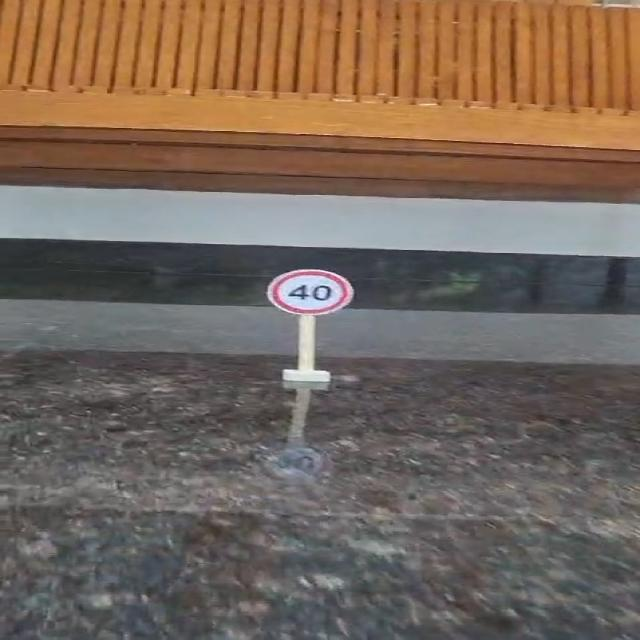Speed40: (264, 266, 360, 318)
